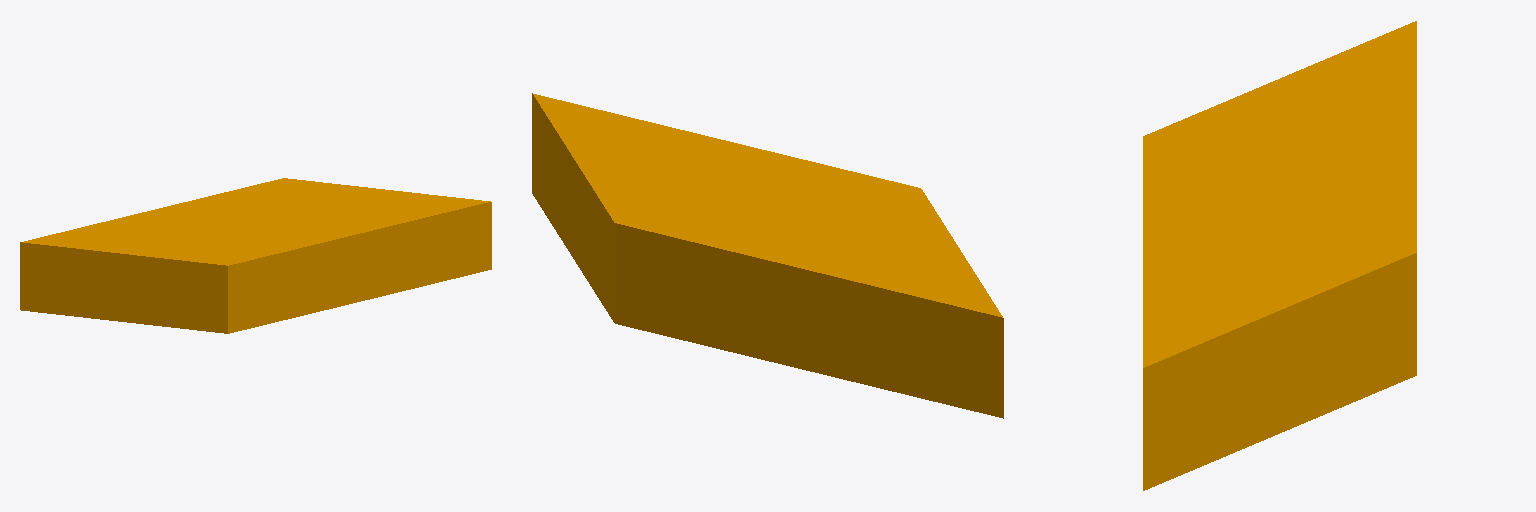
URDF robot description (PA):
<?xml version="0.0" ?>
<robot name="PA">
  <material name="Color">
    <color rgba="0.996, 0.965, 0.306, 1.0"/>
  </material>
  <link name="PA">
    <inertial>
      <origin rpy="0 0 0" xyz="0 0 0"/>
       <mass value=".0"/>
       <inertia ixx="0" ixy="0" ixz="0" iyy="0" iyz="0" izz="0"/>
    </inertial>
    <visual>
      <origin rpy="0 0 0" xyz="0 0 0"/>
      <geometry>
		<mesh filename="PA.obj" scale="0.001 0.001 0.001"/>
      </geometry>
      <material name="Color"/>
    </visual>
    <collision>
      <origin rpy="0 0 0" xyz="0 0 0"/>
      <geometry>
	 	<mesh filename="PA.obj" scale="1 1 1"/>
      </geometry>
    </collision>
  </link>
</robot>

--- Render facts (derived) ---
Views: 3 orthographic renders of the robot side by side, from view 1: azimuth 30°, elevation 25°; view 2: azimuth 150°, elevation 25°; view 3: azimuth 270°, elevation 25°.
Robot: PA — 1 links, 0 joints (none); root link PA; default pose: every joint at zero.
Visible links, largest first — view 1: PA; view 2: PA; view 3: PA.
Link boxes in pixels (x1,y1,x2,y2): PA: [20, 178, 491, 333]; PA: [532, 93, 1003, 418]; PA: [1143, 21, 1416, 490].
Bounding box of the posed robot: 0.2121 × 0.0707 × 0.035 m (x, y, z).
1 mesh visuals loaded from 1 distinct referenced files (1 OBJ).